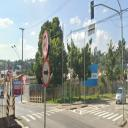NoVirarEsquerda: (6, 70, 11, 83), (121, 76, 125, 85)
NoVirarU: (42, 30, 48, 57)
